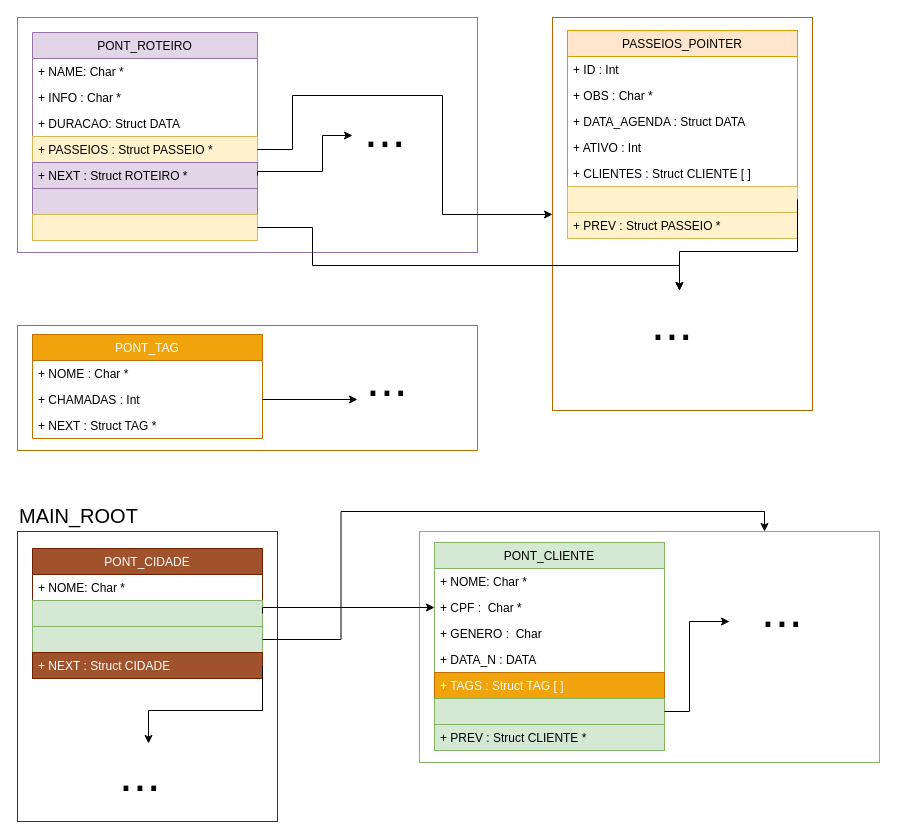
The diagram is 897 pixels wide and 839 high, and some of its shapes have lost their labels. Each missing label, with the centre of its shape:
"+ CLIENTES : Struct CLIENTE *" belongs at [147,613].
"+ LAST_CLIENTE : Struct CLIENTE *" belongs at [147,639].
"+ LAST_PASSEIO : Struct PASSEIO *" belongs at [145,227].
"+ NEXT : Struct CLIENTE *" belongs at [549,711].
"+ NEXT : Struct PASSEIO *" belongs at [682,199].
"+ PREV : Struct ROTEIRO" belongs at [145,201].
